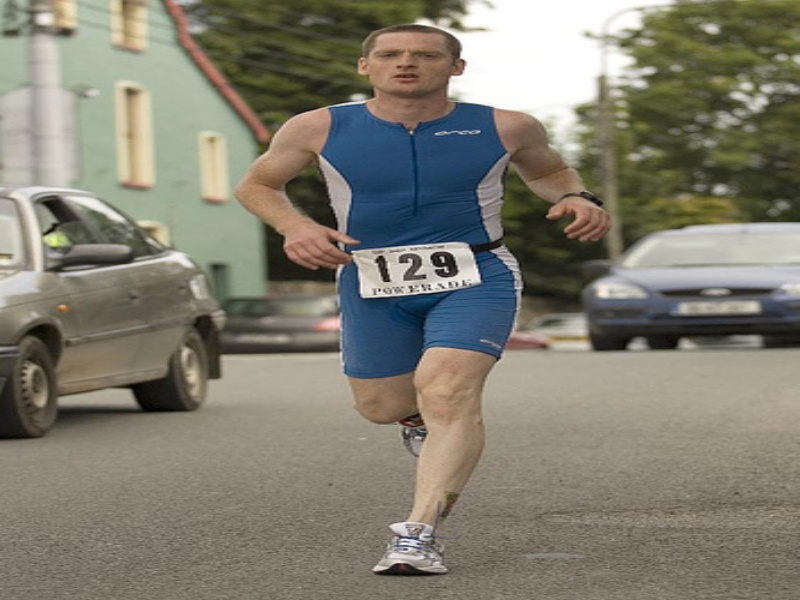car: (1, 187, 226, 435), (583, 220, 800, 350), (218, 293, 340, 351)
person: (235, 24, 610, 573)
